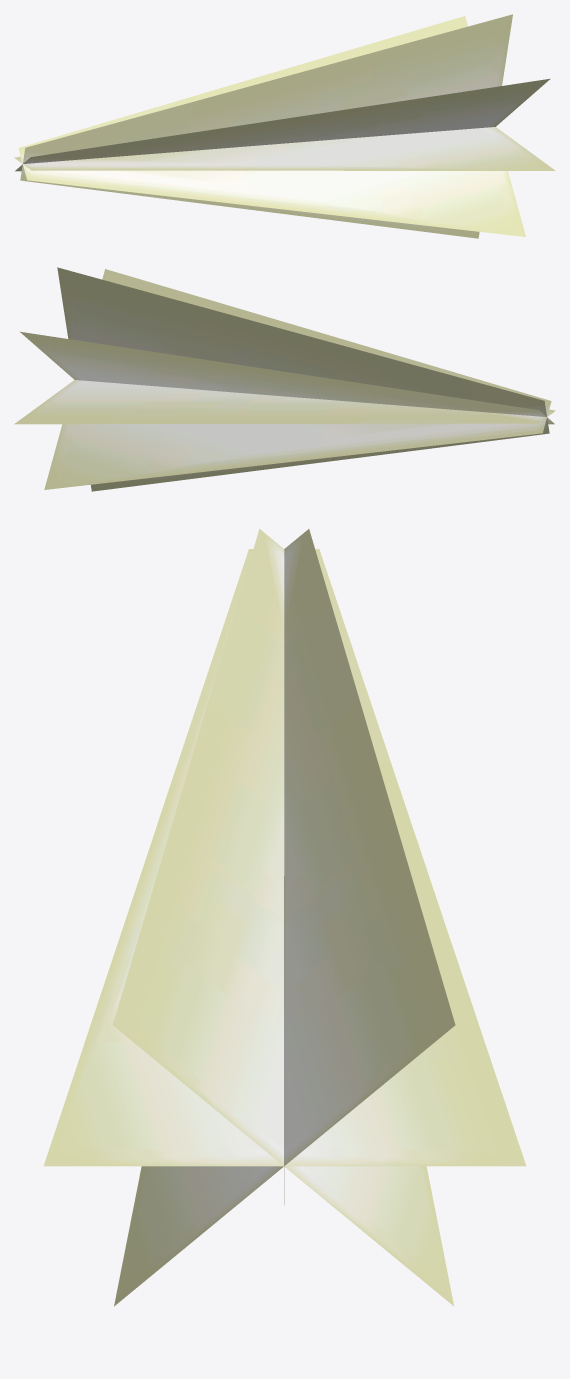
File: Shared - Ground Vehicles - Car Taxi Cab 04 - CVTaxi04r.glb
3 renders of one model, top to bottom at view 1: azimuth 30°, elevation 25°; view 2: azimuth 150°, elevation 25°; view 3: azimuth 270°, elevation 25°, orthographic. The views are drawn at different scales.
Visible parts, largest first — view 1: CVTAXI04R; view 2: CVTAXI04R; view 3: CVTAXI04R.
Boxes of the visible parts, left/top/right/bottom form: CVTAXI04R: left=14, top=14, right=555, bottom=238; CVTAXI04R: left=14, top=267, right=555, bottom=491; CVTAXI04R: left=43, top=529, right=526, bottom=1306.
Size of the model in its own units: 16.91 by 7.09 by 7.19.
1 material, 1 textured.
